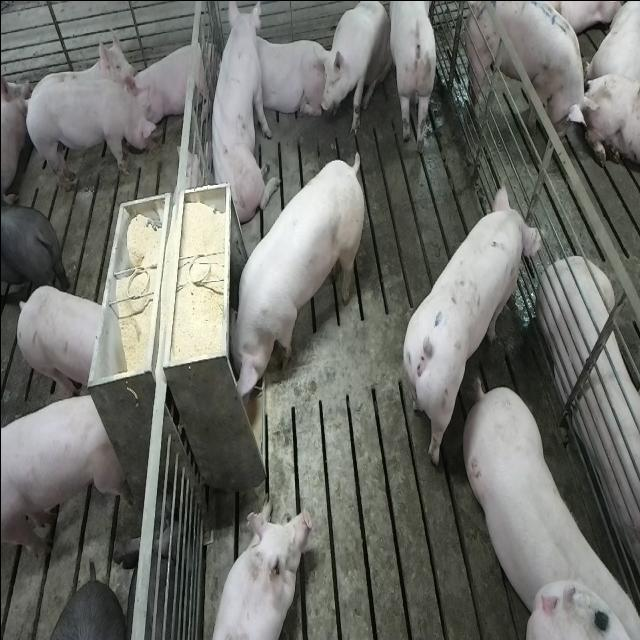Feeding: (220, 148, 360, 406)
Sitting: (205, 3, 272, 230), (320, 0, 390, 136)
Standing: (458, 374, 634, 633), (402, 180, 544, 469), (1, 388, 124, 568), (460, 0, 589, 136), (21, 78, 159, 190), (12, 283, 108, 400), (386, 2, 438, 155), (0, 192, 62, 314)
Sternal_lying: (538, 252, 640, 584), (203, 500, 307, 640), (132, 31, 214, 134), (246, 32, 328, 122)
